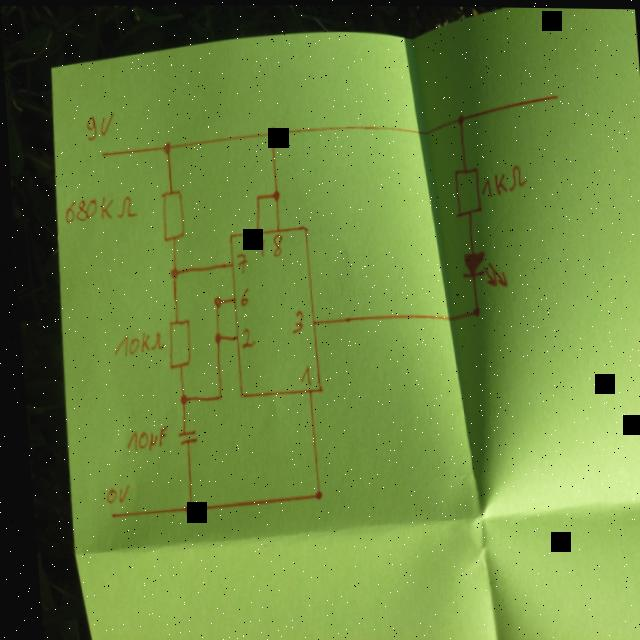capacitor: (171, 427, 192, 447)
diode: (455, 247, 505, 287)
junction: (176, 500, 188, 516), (305, 486, 318, 500), (466, 301, 477, 316), (159, 139, 170, 154), (207, 328, 217, 344), (264, 124, 274, 140), (208, 293, 218, 308), (268, 187, 278, 201), (164, 265, 175, 277), (454, 110, 463, 124), (251, 190, 259, 202), (174, 391, 182, 403), (210, 390, 219, 400)
resistor: (448, 164, 480, 216), (156, 188, 182, 240), (161, 318, 188, 368)
terminal: (546, 86, 560, 102), (102, 508, 109, 519), (97, 150, 104, 158)
text: (59, 194, 134, 223), (476, 161, 526, 197), (107, 329, 161, 357), (120, 423, 163, 451), (83, 110, 113, 140), (98, 482, 123, 502), (235, 325, 252, 347), (286, 306, 300, 332), (292, 362, 307, 385), (266, 232, 280, 256), (231, 250, 245, 273), (249, 234, 263, 256), (233, 286, 246, 306)
